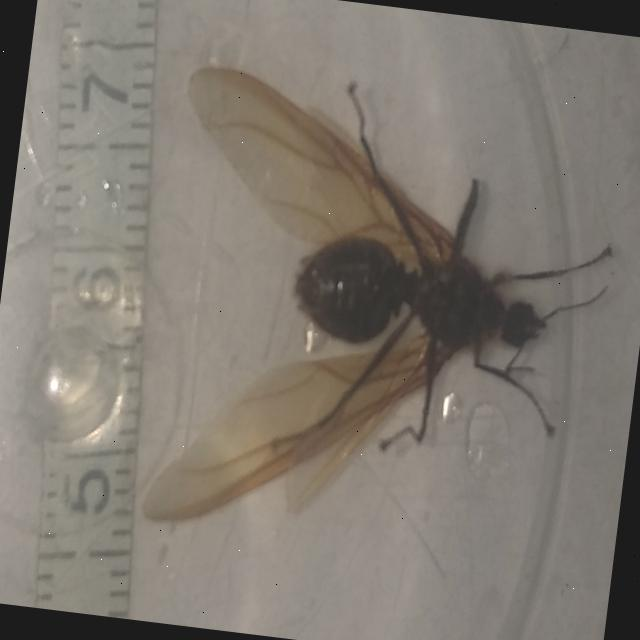Dead-Male-Alate: (134, 58, 630, 574)
